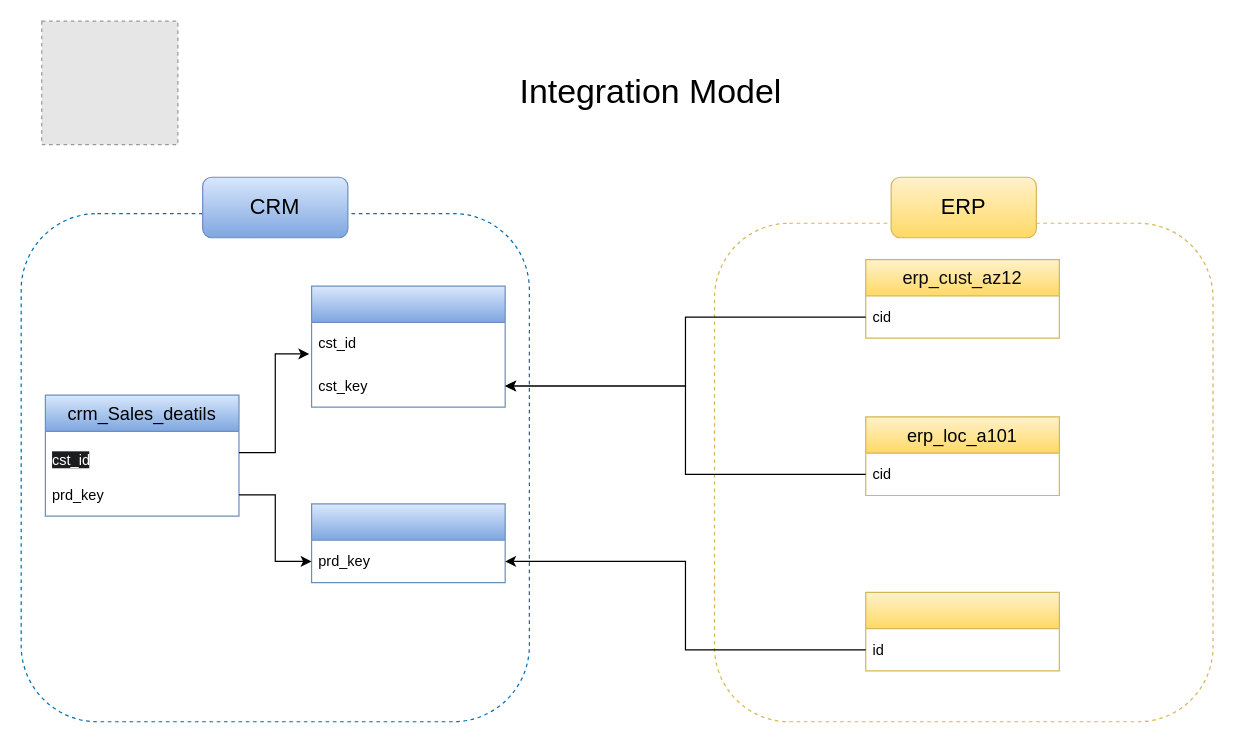
Some shapes in this 1234 by 753 pixel diagram are drawn without their labels. Grey dashed boxes stand in for pictures. Each missing label, with the box of its shape:
crm_cust_info: (310, 285, 505, 407)
crm_prd_info: (310, 503, 505, 583)
erp_px_cat_g1v2: (865, 591, 1059, 671)
